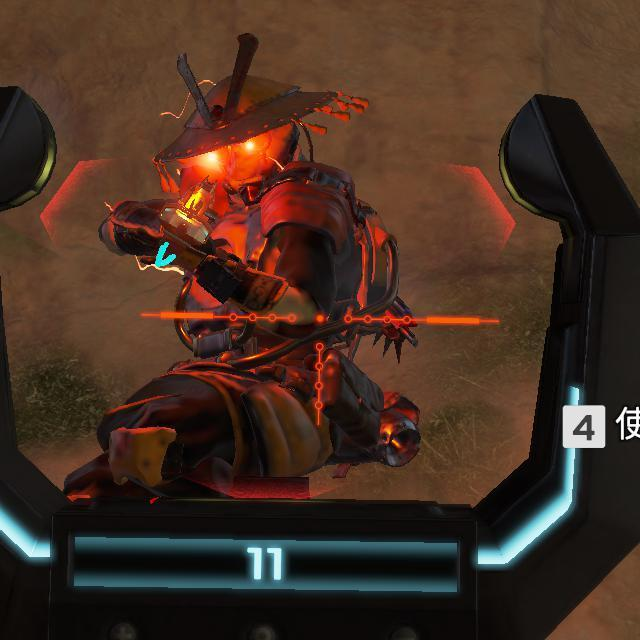avatar: (92, 65, 426, 500)
